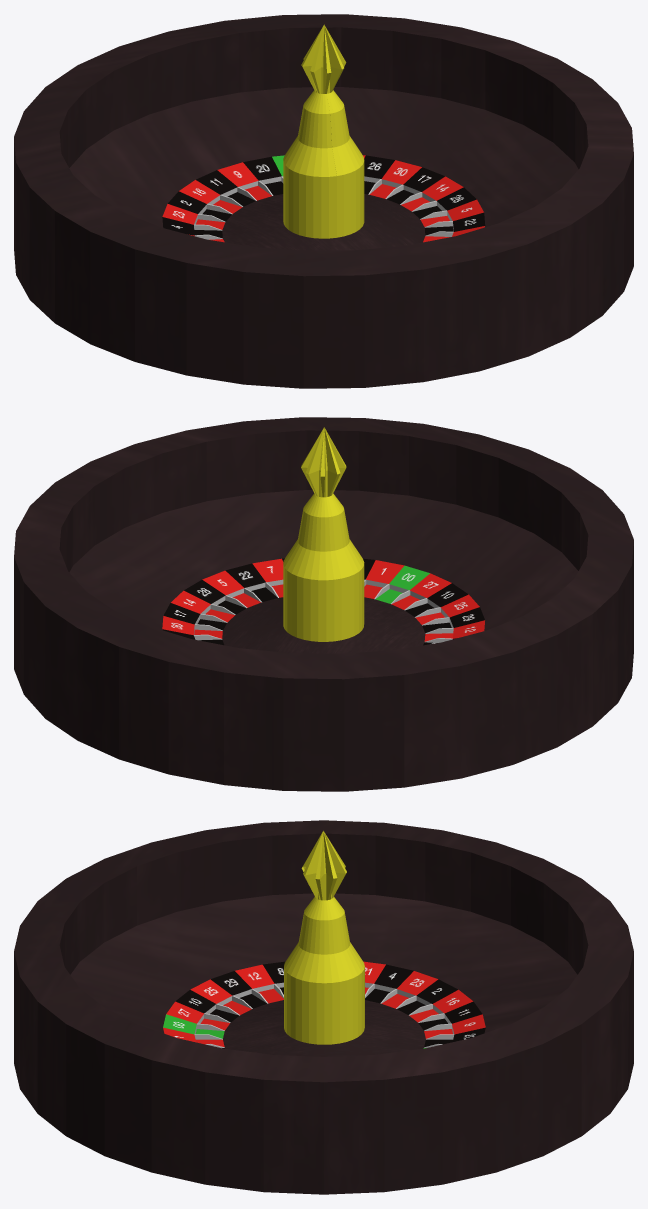
The model's file is RouletteWheel32_done_unsmoothed2_uvmapped.fbx.
3 renders of one model, top to bottom at view 1: azimuth 30°, elevation 25°; view 2: azimuth 150°, elevation 25°; view 3: azimuth 270°, elevation 25°, orthographic.
Parts seen in each view (by area): view 1: RouletteBowl, RouletteWheel; view 2: RouletteBowl, RouletteWheel; view 3: RouletteBowl, RouletteWheel.
Part boxes in pixels (bbox=[...]): RouletteBowl: bbox=[14, 14, 633, 388]; RouletteWheel: bbox=[162, 24, 485, 250]; RouletteBowl: bbox=[14, 417, 633, 791]; RouletteWheel: bbox=[162, 427, 484, 653]; RouletteBowl: bbox=[14, 820, 633, 1194]; RouletteWheel: bbox=[163, 831, 485, 1056].
Bounding box in the file's own units: 2 × 0.83 × 2.
